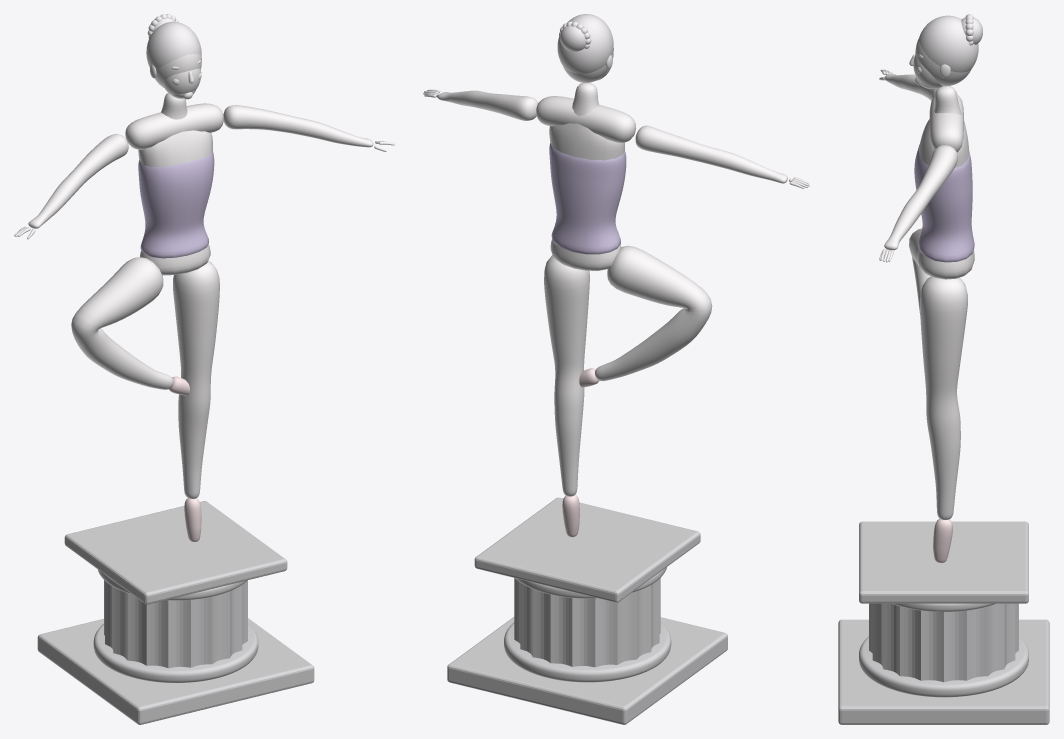
File: ballerina.glb
3 renders of one model, left to right at view 1: azimuth 30°, elevation 25°; view 2: azimuth 150°, elevation 25°; view 3: azimuth 270°, elevation 25°, orthographic. The views are drawn at different scales.
Parts seen in each view (by area): view 1: Plinth, Body, LegW, ArmL, ArmR; view 2: Plinth, Body, LegW, ArmR, ArmL; view 3: Plinth, Body, ArmL, ArmR, LegW.
Part boxes in pixels (box(x1,y1,x2,y2)): Plinth: box(37, 501, 314, 724); Body: box(125, 14, 223, 541); LegW: box(71, 257, 189, 395); ArmL: box(223, 105, 394, 151); ArmR: box(14, 134, 128, 239); Plinth: box(447, 497, 727, 724); Body: box(536, 14, 635, 537); LegW: box(579, 245, 712, 387); ArmR: box(635, 125, 809, 188); ArmL: box(423, 89, 538, 120); Plinth: box(838, 521, 1049, 724); Body: box(909, 14, 982, 562); ArmL: box(879, 145, 957, 262); ArmR: box(879, 69, 957, 100); LegW: box(909, 228, 930, 315).
Bounding box in the file's own units: 1.33 × 2.16 × 0.62.
